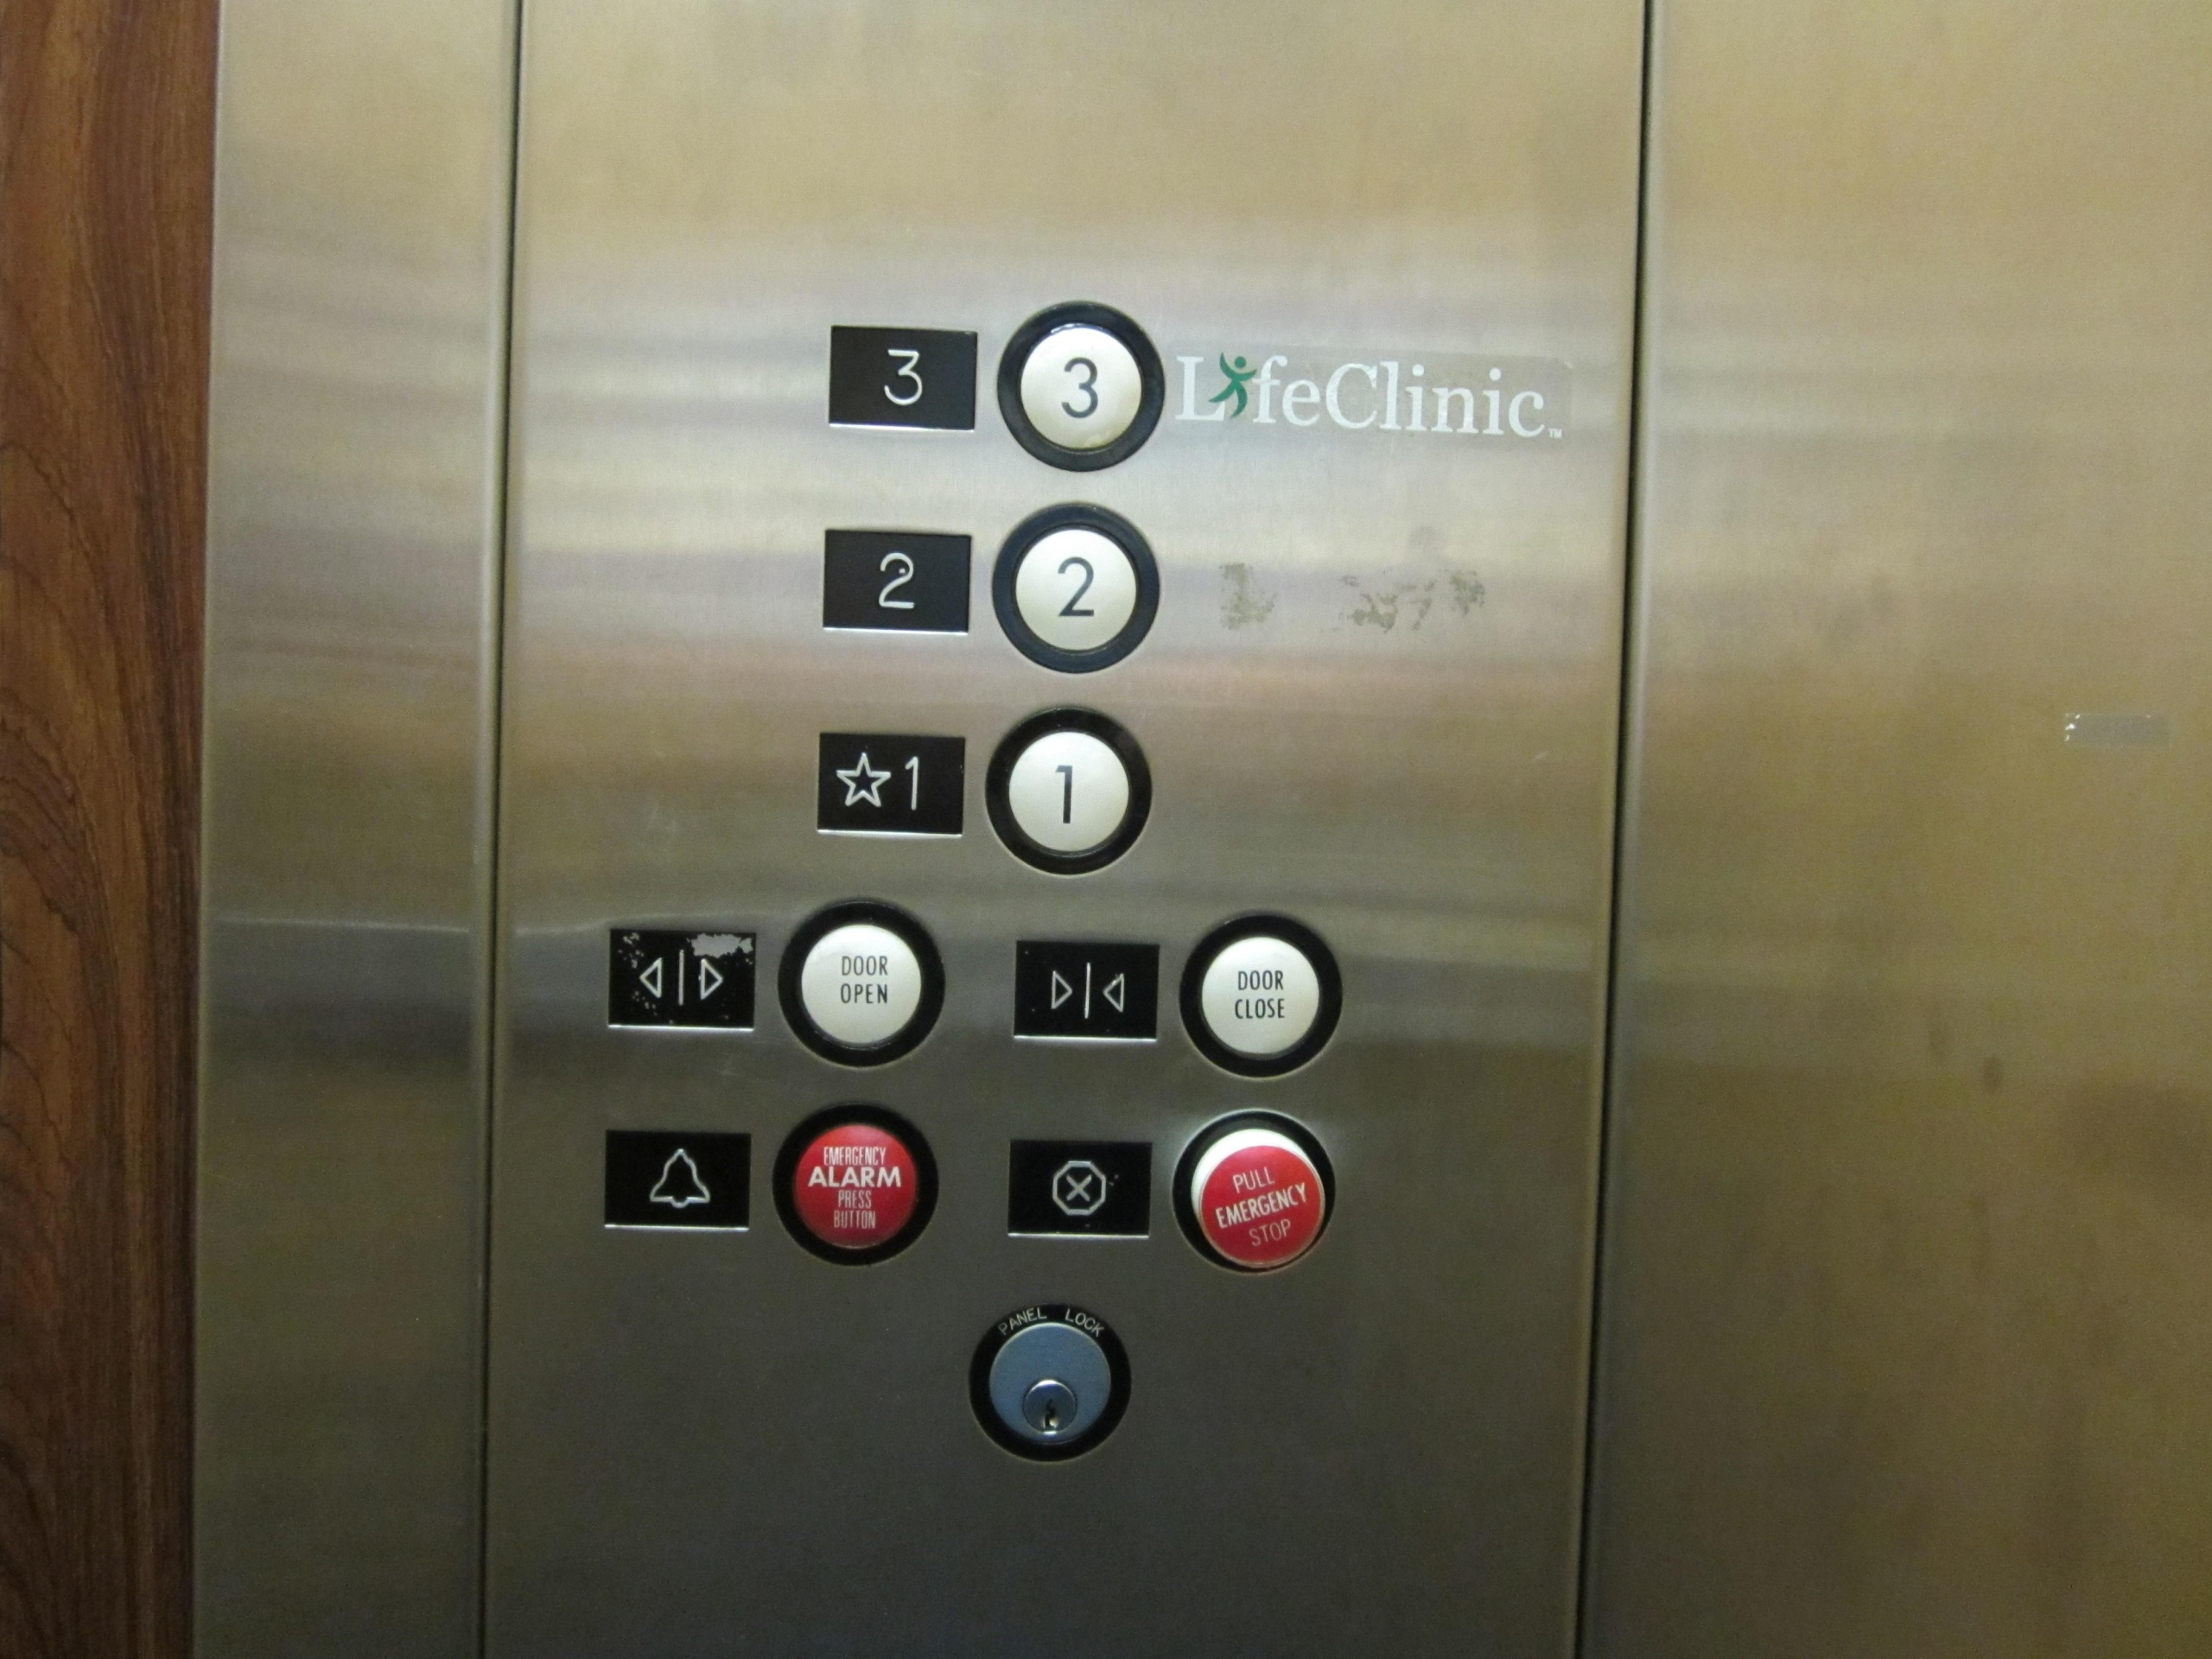1: (986, 704, 1155, 877)
2: (991, 502, 1162, 674), (824, 528, 972, 634)
3: (996, 298, 1167, 476), (824, 317, 982, 441)
alarm: (599, 1126, 754, 1234)
close: (1007, 934, 1163, 1046)
keyhole: (968, 1303, 1130, 1462)
open: (604, 924, 761, 1035)
s1: (817, 730, 967, 836)
stop: (1000, 1134, 1155, 1243)
text: (777, 897, 944, 1068), (1177, 908, 1341, 1077), (773, 1105, 939, 1265), (1174, 1112, 1336, 1272)
